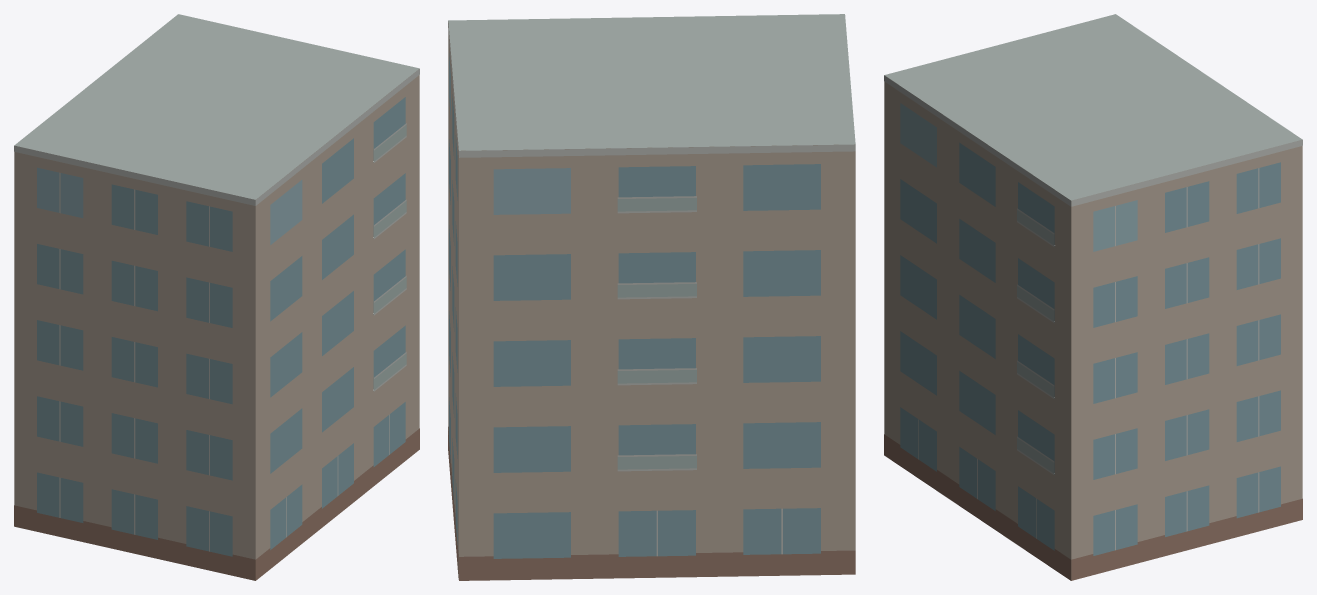
The model's file is survey-upis-32942672.glb.
3 renders of one model, left to right at view 1: azimuth 30°, elevation 25°; view 2: azimuth 150°, elevation 25°; view 3: azimuth 270°, elevation 25°, orthographic. The views are drawn at different scales.
Visible parts, largest first — view 1: survey-upis-32942672.tmp; view 2: survey-upis-32942672.tmp; view 3: survey-upis-32942672.tmp.
Part boxes in pixels (x1,y1,x2,y2): survey-upis-32942672.tmp: (14,14,419,580); survey-upis-32942672.tmp: (448,14,855,580); survey-upis-32942672.tmp: (884,14,1302,580).
Bounding box in the file's own units: 15.75 × 14.95 × 14.92.
